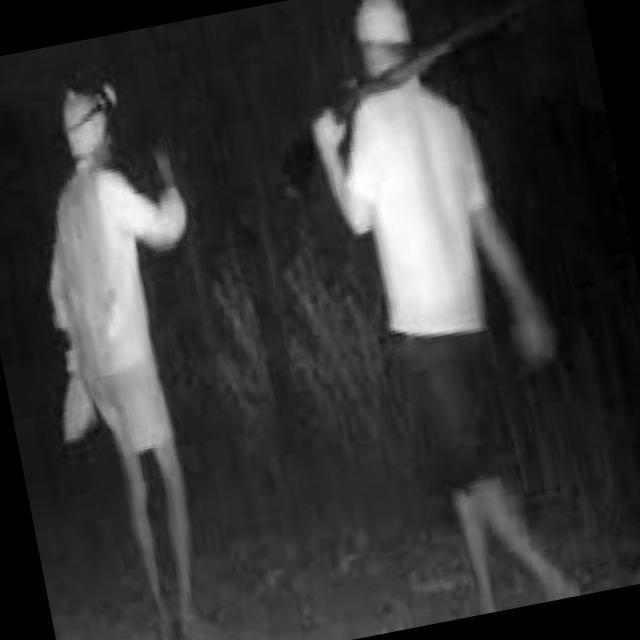poacher: (294, 0, 582, 587), (3, 62, 282, 640)
weapon: (264, 31, 474, 210)
